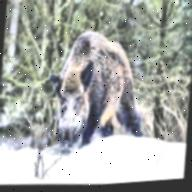boar: (43, 23, 151, 161)
